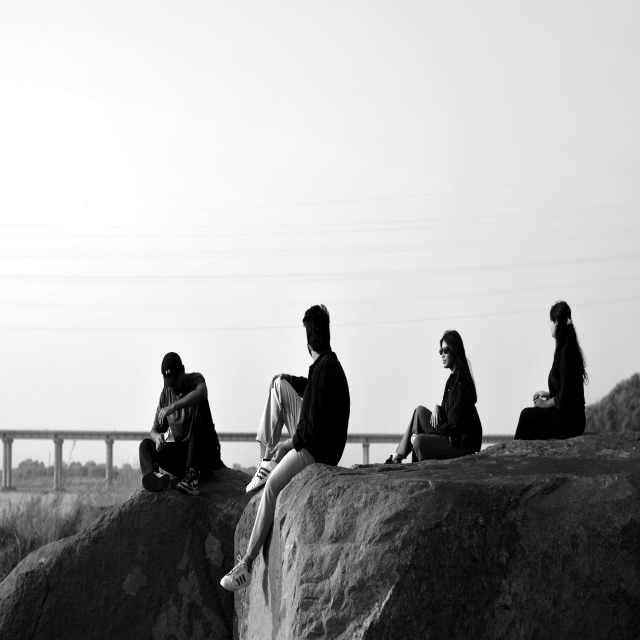no_hard_hat: (161, 352, 184, 377)
no_head_wear: (549, 301, 588, 394), (441, 330, 476, 403), (303, 305, 330, 353)
person: (221, 305, 350, 592), (386, 330, 482, 464), (139, 352, 225, 495), (514, 301, 588, 440)
